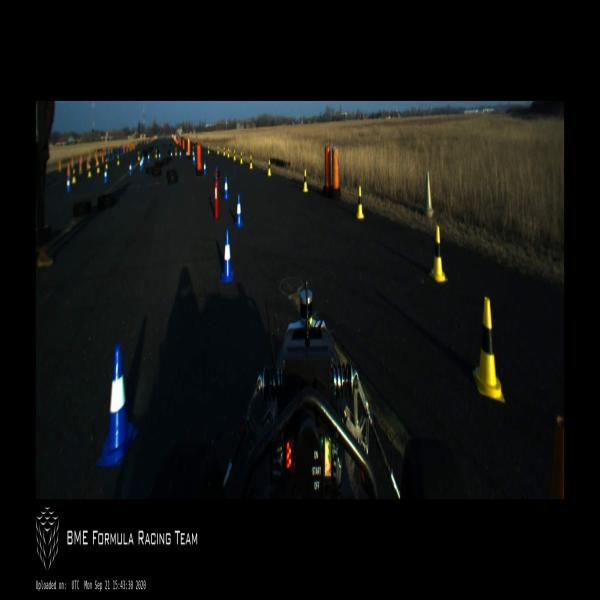blue_cone: (97, 344, 138, 466), (221, 229, 234, 282), (234, 193, 244, 227), (224, 176, 228, 199), (66, 178, 71, 193), (129, 162, 132, 176), (104, 169, 107, 182), (204, 160, 206, 176), (193, 151, 195, 166), (180, 150, 182, 159), (148, 154, 150, 162), (158, 153, 160, 161)
unknown_cone: (422, 171, 434, 218)
yellow_cone: (473, 298, 505, 402), (430, 226, 448, 282), (356, 186, 364, 219), (303, 169, 308, 192), (72, 169, 76, 184), (268, 159, 271, 176), (240, 151, 243, 164), (233, 148, 236, 161), (88, 165, 91, 178), (97, 161, 100, 173), (105, 158, 108, 169), (227, 148, 230, 158), (250, 155, 252, 169), (117, 156, 120, 165), (155, 149, 158, 158), (223, 147, 225, 156), (217, 146, 219, 154), (138, 152, 140, 160), (175, 148, 177, 156), (208, 146, 209, 154)
